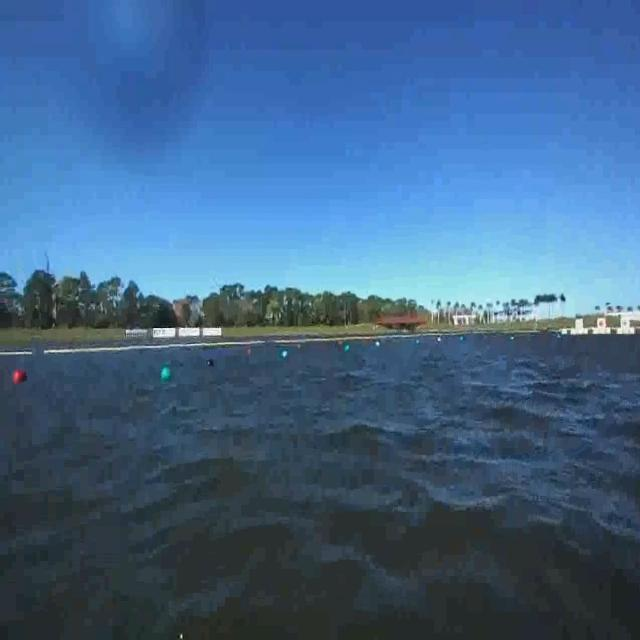green-buoy: (160, 366, 170, 380)
red-buoy: (13, 368, 28, 384)
